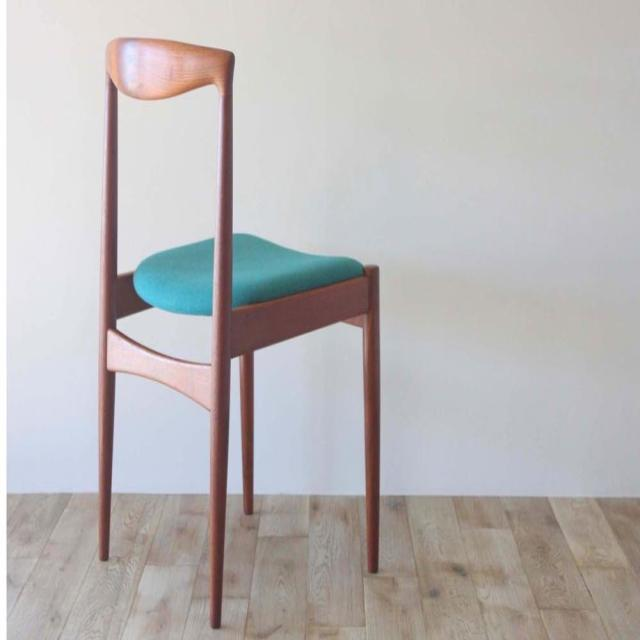chair vintage: (95, 32, 383, 631)
